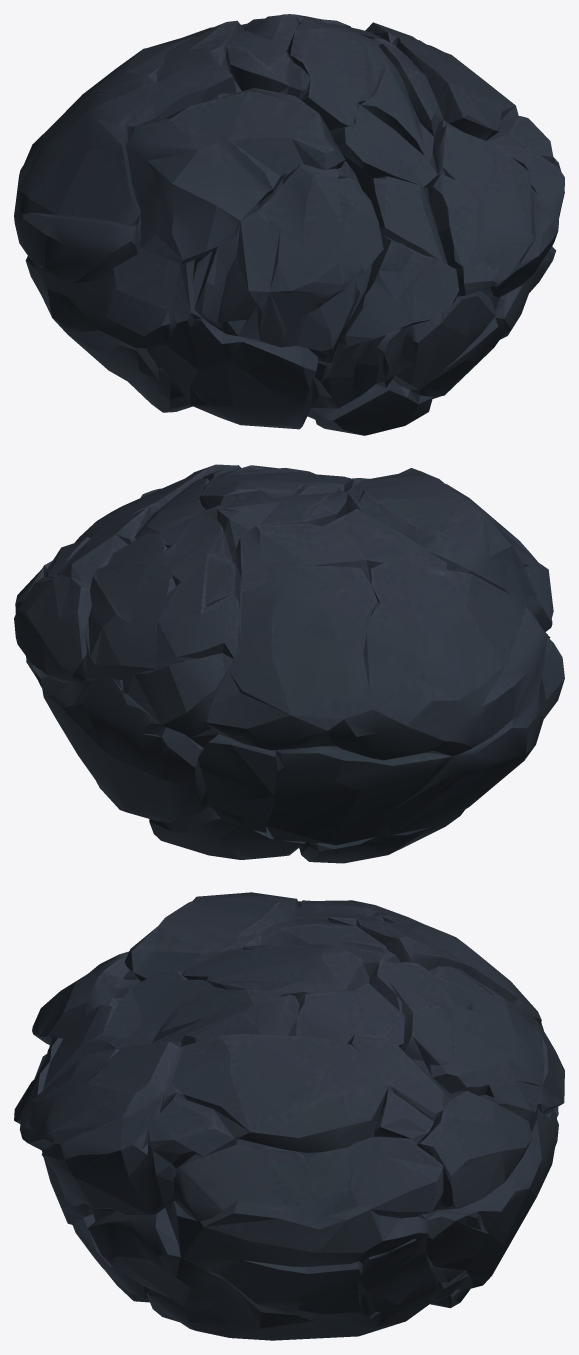
Rendered from rocher_1.glb.
The picture shows the model from 3 angles, top to bottom: view 1: azimuth 30°, elevation 25°; view 2: azimuth 150°, elevation 25°; view 3: azimuth 270°, elevation 25°; orthographic projection. The views are drawn at different scales.
Bounding box in the file's own units: 1.9 × 1.2 × 1.77.
1 material, 1 textured.
